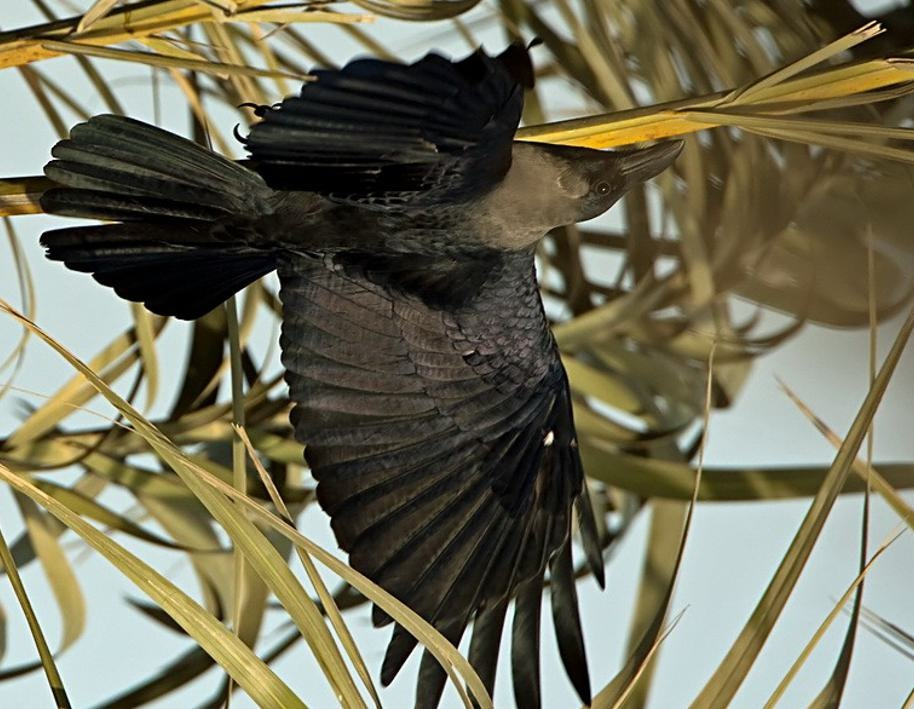crow: (48, 41, 695, 642)
